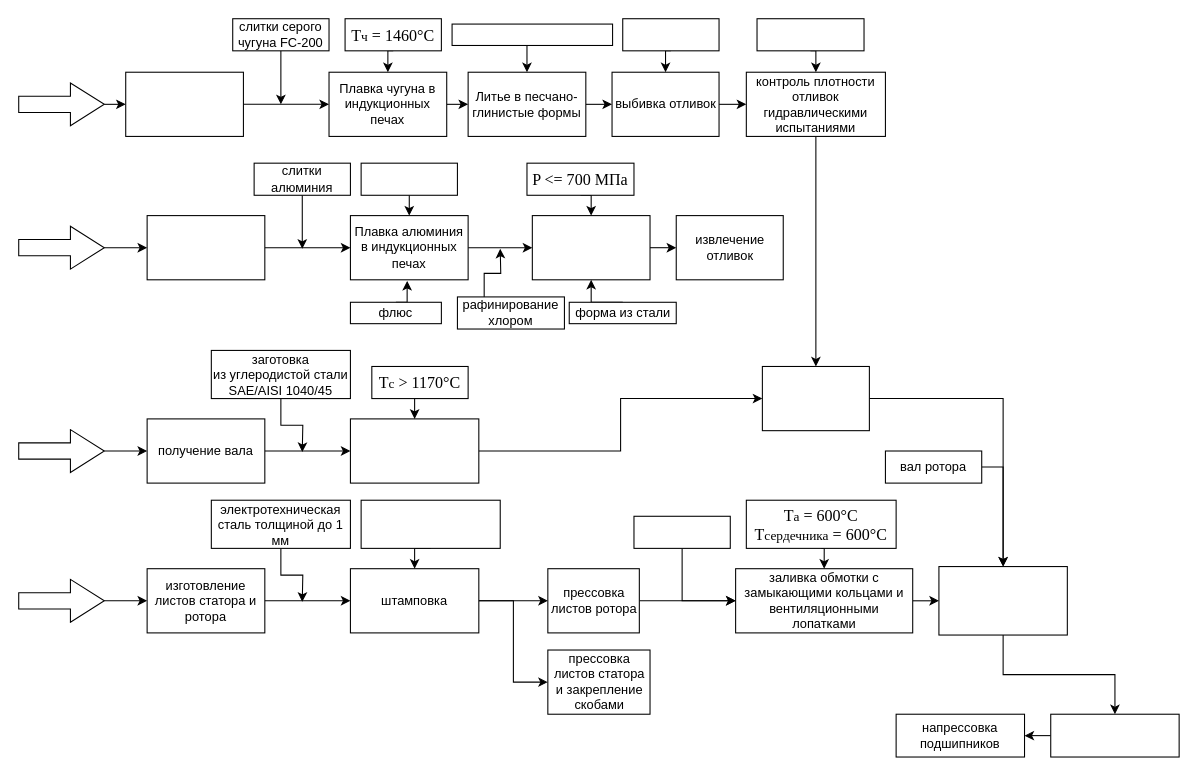
Some shapes in this 1198 by 776 pixel diagram are drawn without their labels. Here are the shapes that lost their labels. From the top down, the centre of each, then its label:
(x=532, y=34): песчано-глинистая смесь
(x=670, y=34): T ч = 450°С
(x=810, y=34): P в = 200 МПа
(x=184, y=103): изготовление металлических комплектующих
(x=408, y=178): T а = 600°С
(x=205, y=247): Изготовление лёгких металлических составляющих
(x=590, y=247): Литье под давлением
(x=815, y=398): механическая обработка на станках с ЧПУ
(x=414, y=450): получение заготовки из металлопроката
(x=430, y=523): V = 30 ходов/мин F = 66 т
(x=681, y=531): алюминия
(x=1002, y=600): выпрессовка оправки и запрессовка вала в сердечник
(x=1114, y=735): балансировка ротора
